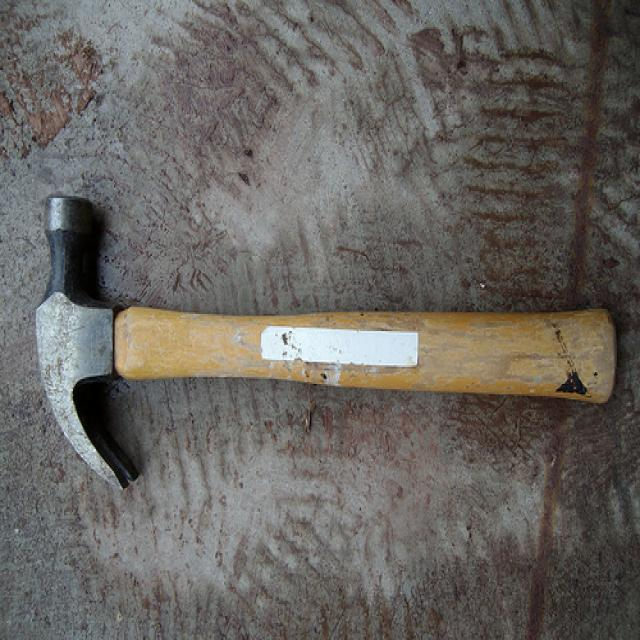hammer: (28, 184, 628, 506)
